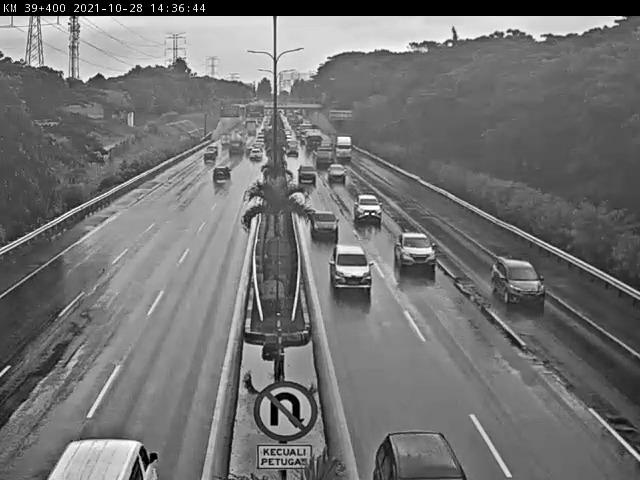big truck: (333, 139, 350, 157)
car: (376, 396, 447, 474), (53, 425, 147, 477), (394, 225, 443, 283), (487, 257, 533, 314), (324, 249, 375, 291), (355, 196, 382, 222), (312, 208, 336, 235), (296, 161, 319, 181), (322, 162, 340, 179), (214, 169, 233, 185), (248, 151, 262, 167), (202, 148, 218, 159)
